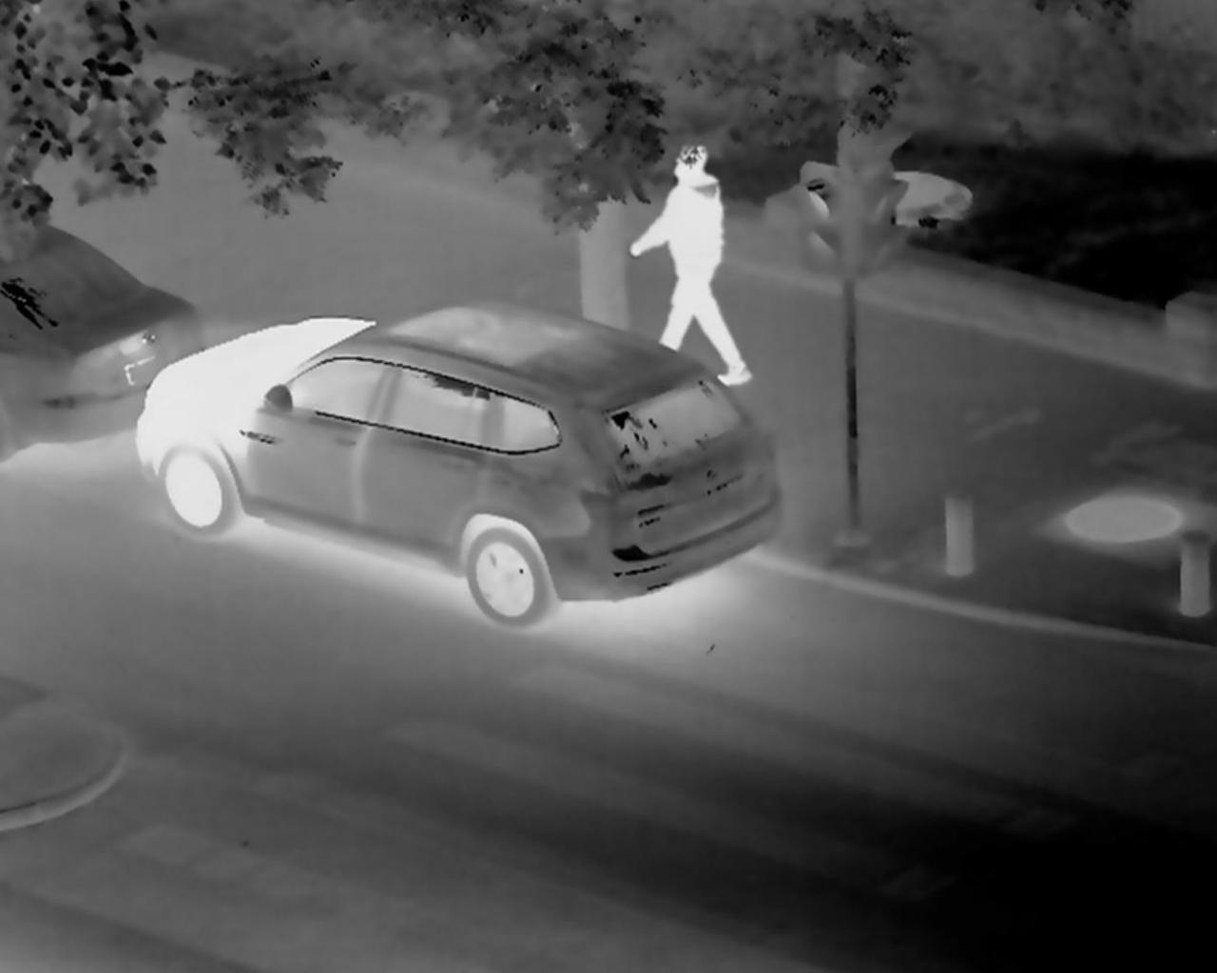person: (650, 131, 765, 396)
